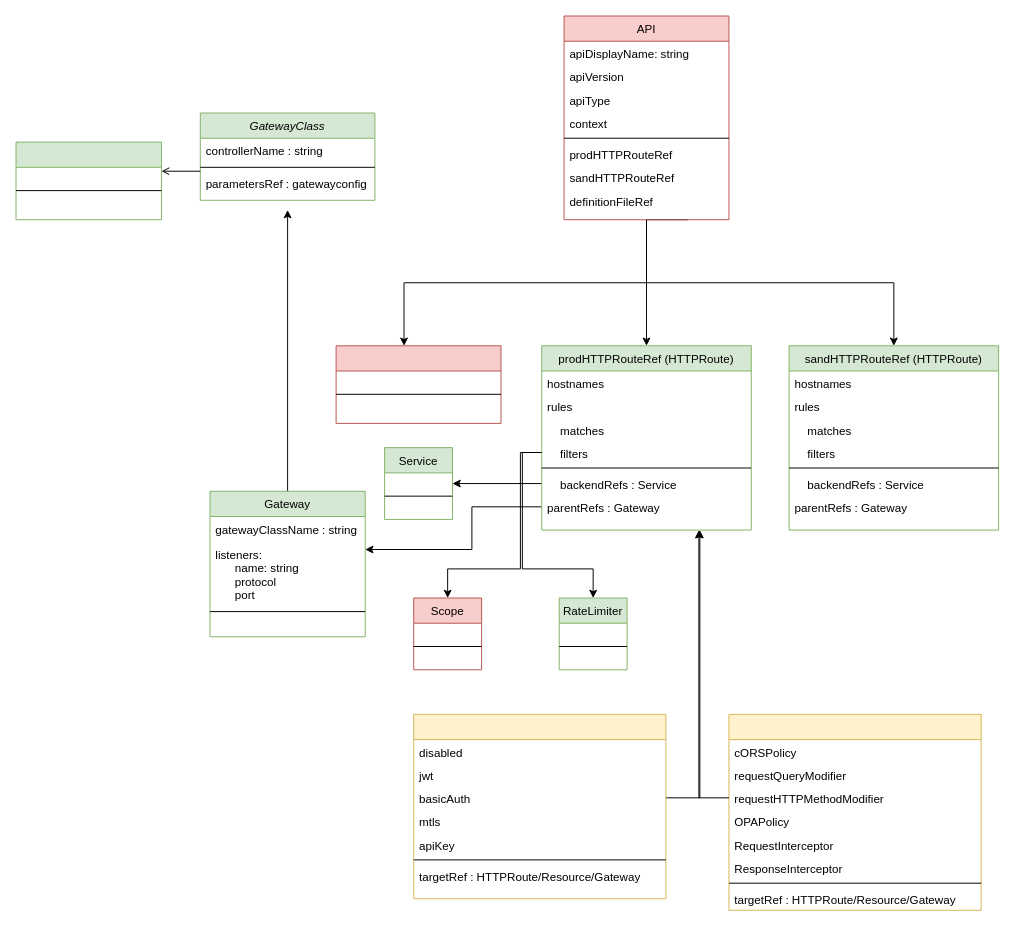
The diagram is 1015 pixels wide and 926 high, and some of its shapes have lost their labels. Each missing label, with the box of its shape:
APIPolicy: (728, 713, 981, 910)
Authentication: (413, 713, 666, 899)
definitionFileRef (ConfigMap): (335, 345, 501, 423)
gatewayconfig (ConfigMap): (15, 141, 162, 220)
